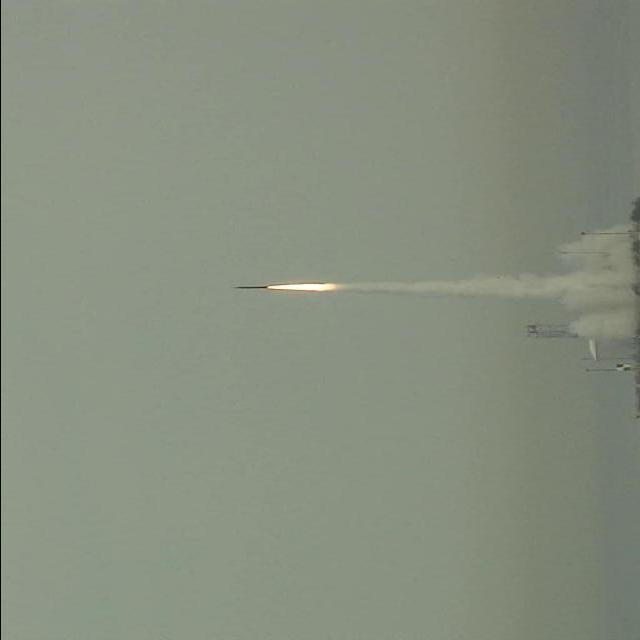missile: (235, 280, 271, 294)
